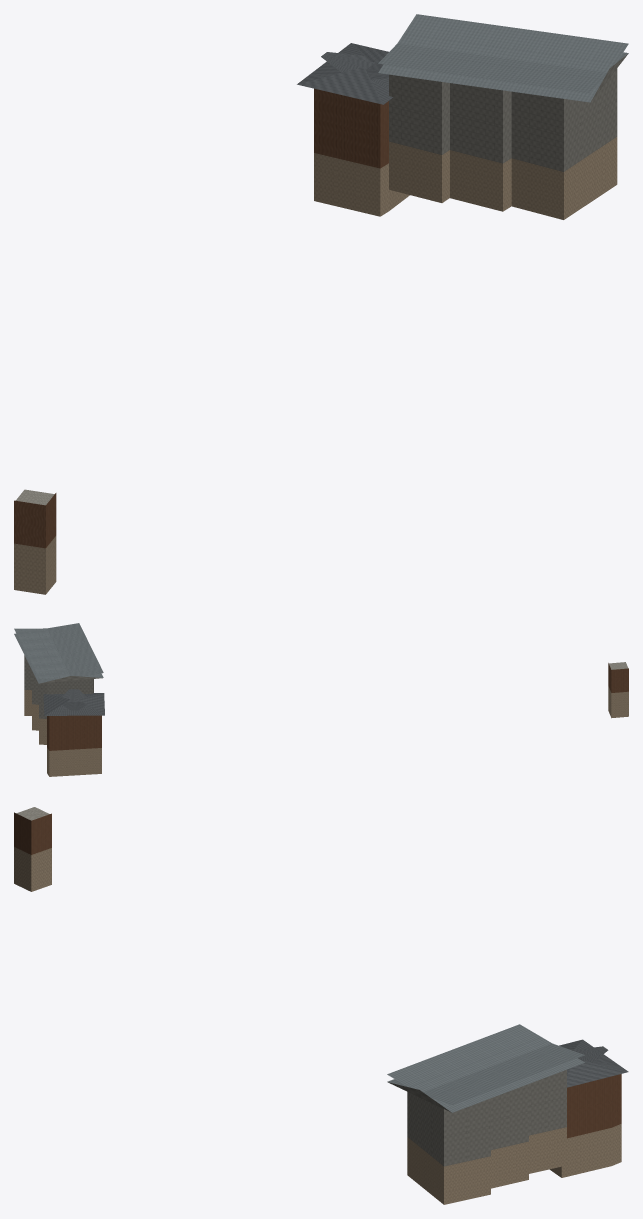
File: bld_c10_9_503.gltf
The picture shows the model from 3 angles, top to bottom: view 1: azimuth 30°, elevation 25°; view 2: azimuth 150°, elevation 25°; view 3: azimuth 270°, elevation 25°; orthographic projection. The views are drawn at different scales.
Visible parts, largest first — view 1: bld_c10_9_503; view 2: bld_c10_9_503; view 3: bld_c10_9_503.
Boxes of the visible parts, x1,y1,x2,y2 form: bld_c10_9_503: [14, 14, 628, 594]; bld_c10_9_503: [14, 623, 628, 776]; bld_c10_9_503: [14, 807, 628, 1204].
Size of the model in its own units: 97.24 by 16.4 by 74.08.
Materials: 8 (8 with a texture image).
